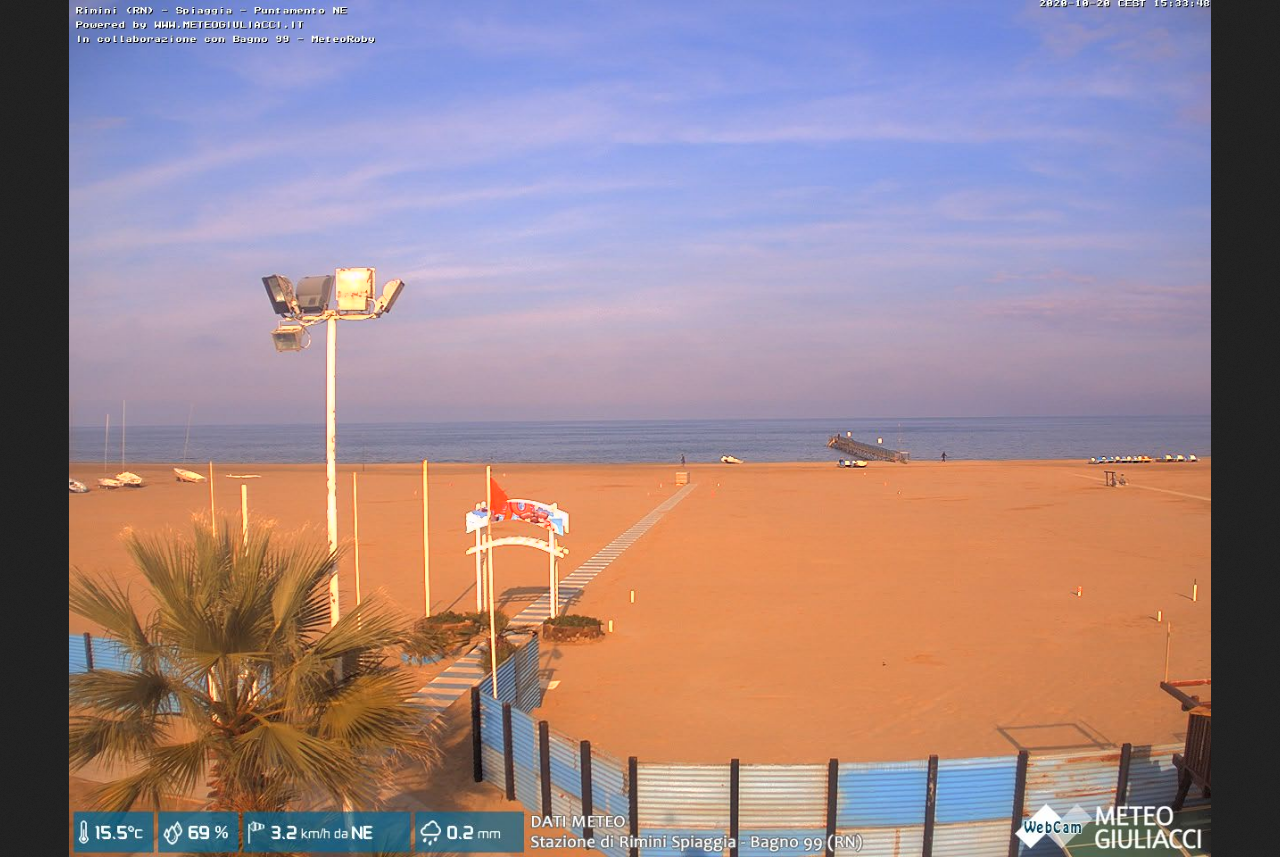maybe: (480, 465, 514, 528)
